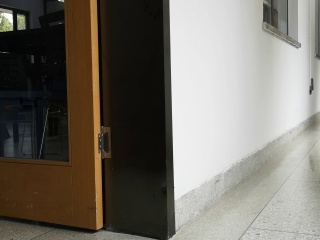room: (2, 3, 175, 240)
